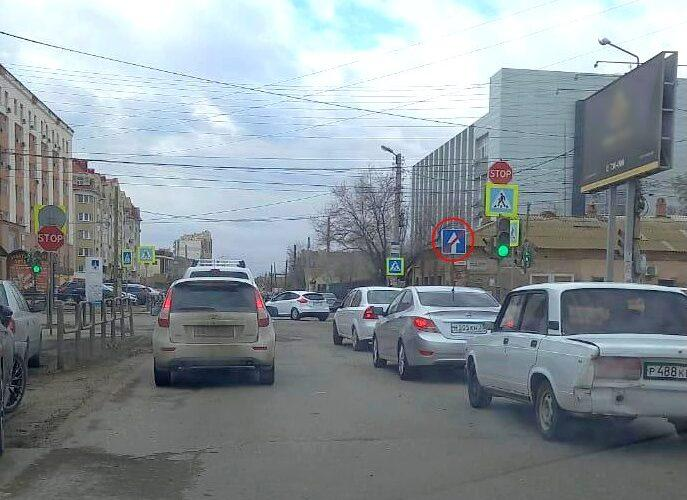Sign: (37, 225, 66, 251), (487, 162, 513, 185)
